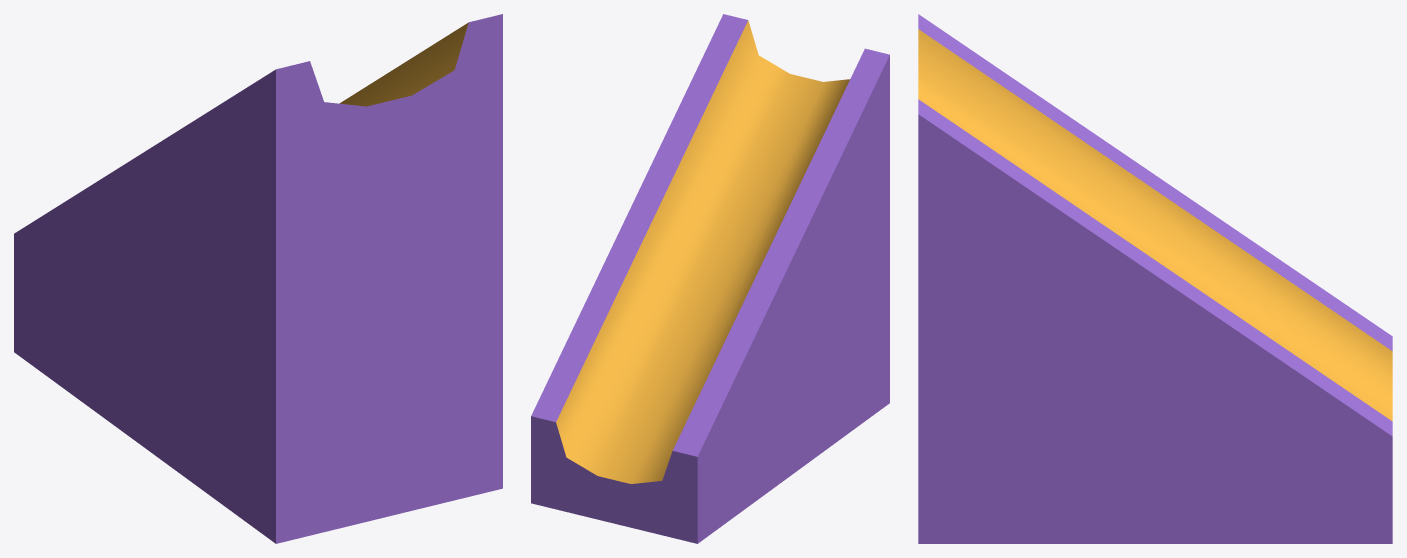
Rendered from slant-solid-long-d.glb.
The picture shows the model from 3 angles, left to right: view 1: azimuth 30°, elevation 25°; view 2: azimuth 150°, elevation 25°; view 3: azimuth 270°, elevation 25°; orthographic projection. The views are drawn at different scales.
Parts seen in each view (by area): view 1: slant-solid-long-d; view 2: slant-solid-long-d; view 3: slant-solid-long-d.
Part boxes in pixels (x1,y1,x2,y2): slant-solid-long-d: [14, 14, 502, 543]; slant-solid-long-d: [531, 14, 889, 543]; slant-solid-long-d: [918, 14, 1392, 543].
Size of the model in its own units: 1 by 2 by 2.
1 material, 1 textured.
